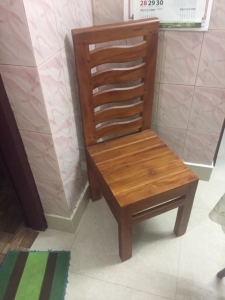chair: (70, 17, 199, 262)
